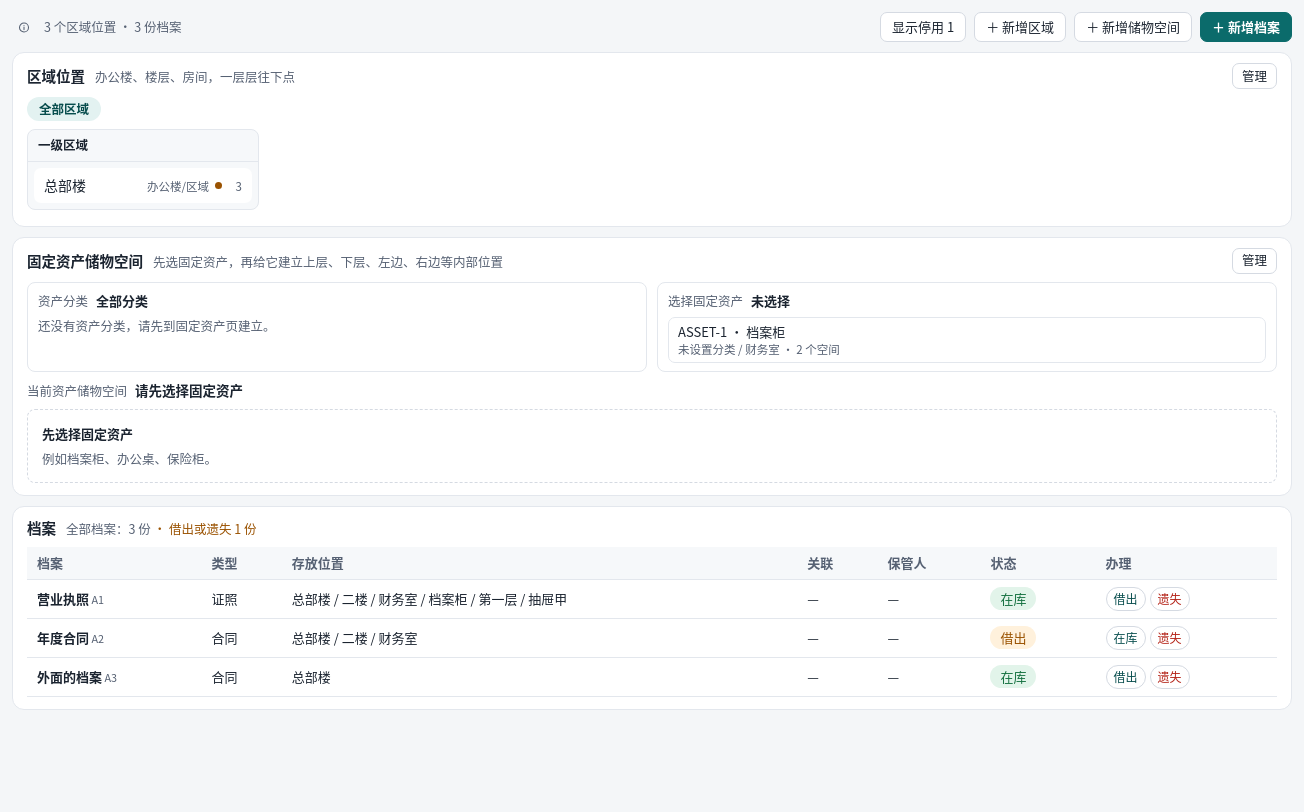
Test: 房间与档案位置看板 › 取消“含下级”后只看这个位置本身
Click the button "总部楼 办公楼/区域 3" at (143, 185), box [35,169,251,202]
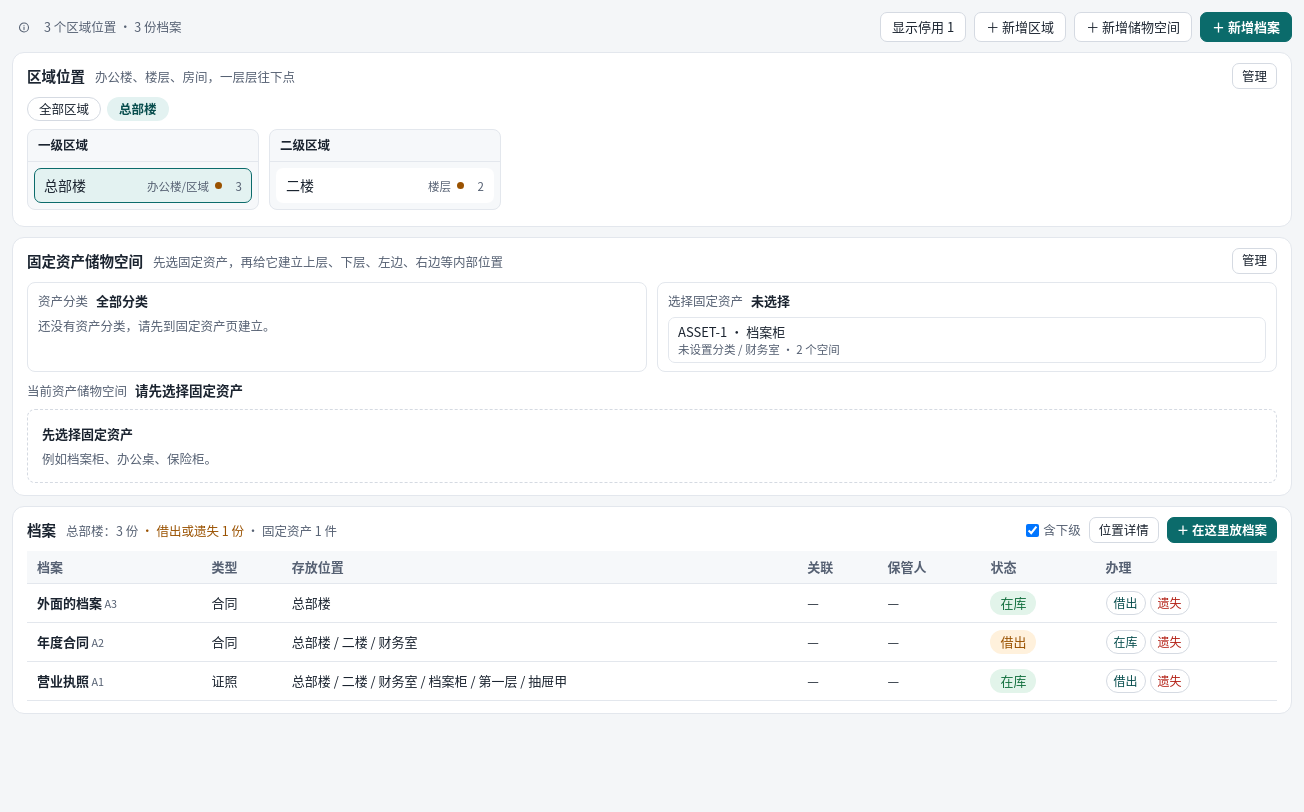
Click the checkbox labelled "含下级" at (1033, 530), box [1026,524,1039,537]
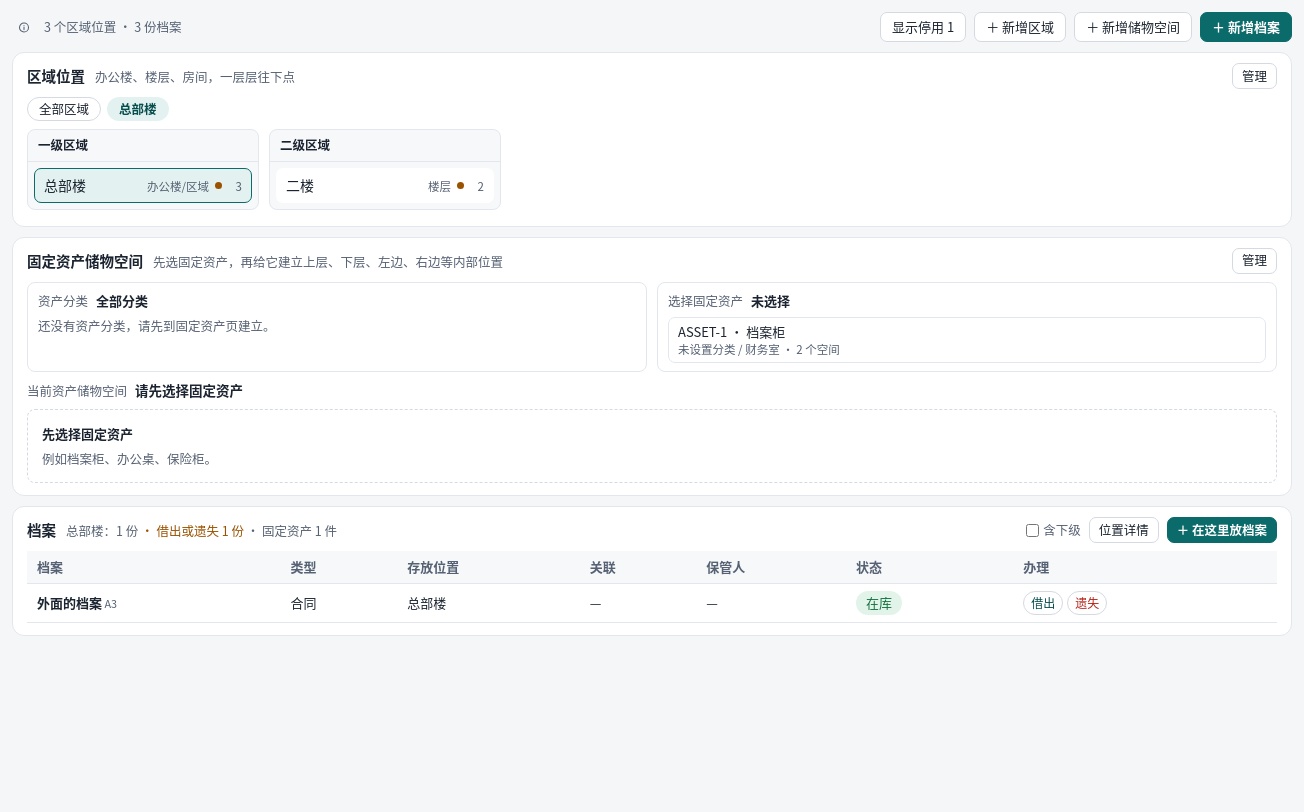
Expected: the text "外面的档案" is shown, [37,593,102,612]
Now the number of rows is 2, box [27,551,1277,583]; [27,583,1277,622]
